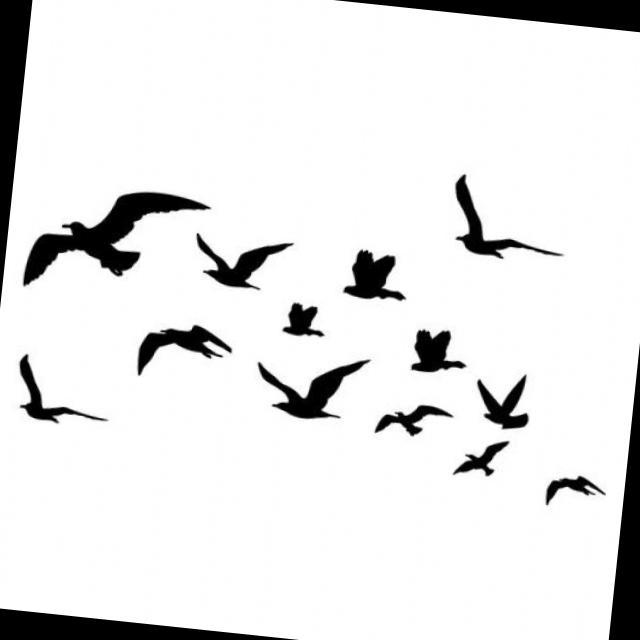bird: (18, 173, 212, 306), (436, 170, 576, 273), (247, 344, 379, 428), (2, 349, 116, 434), (181, 223, 295, 299), (129, 314, 238, 388), (333, 244, 411, 308), (469, 367, 536, 434), (370, 395, 456, 446), (401, 320, 473, 379), (447, 433, 514, 484), (539, 468, 609, 515), (279, 296, 330, 342)
